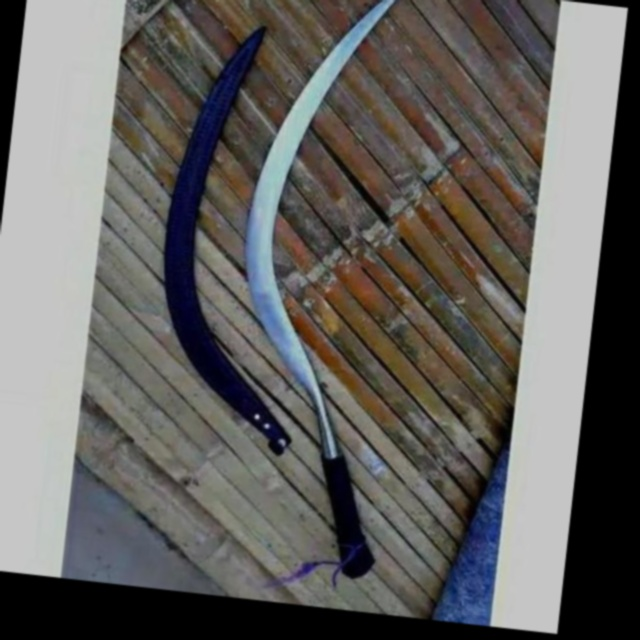Sharp-Object: (204, 0, 453, 586)
